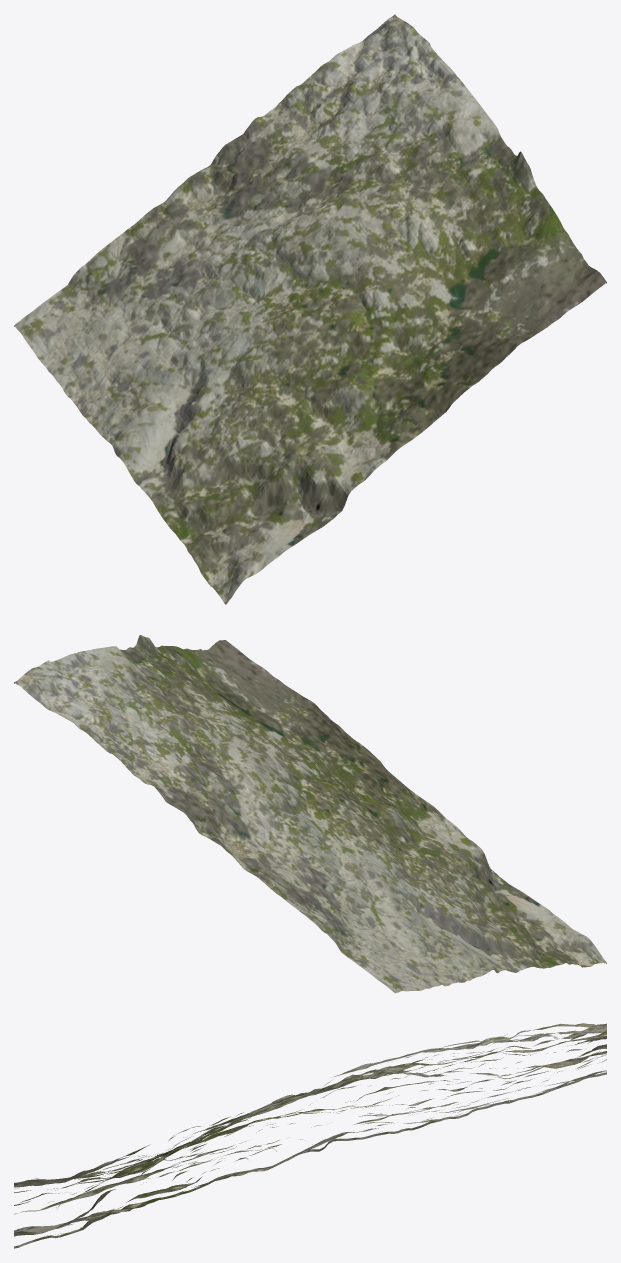
The picture shows the model from 3 angles, top to bottom: view 1: azimuth 30°, elevation 25°; view 2: azimuth 150°, elevation 25°; view 3: azimuth 270°, elevation 25°; orthographic projection. The views are drawn at different scales.
Bounding box in the file's own units: 250 × 216 × 241.
Materials: 1 (1 with a texture image).
